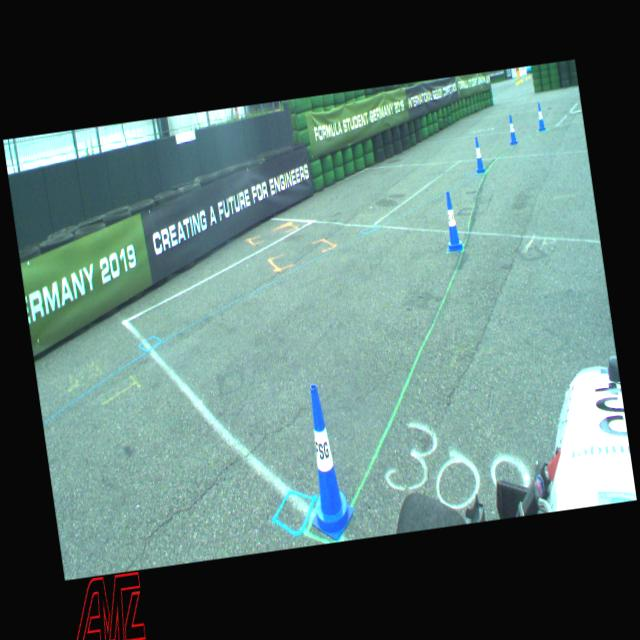blue_cone: (293, 381, 358, 543), (439, 190, 464, 252), (472, 137, 486, 174), (506, 114, 518, 146), (536, 102, 546, 132)
yellow_cone: (516, 78, 518, 85)
